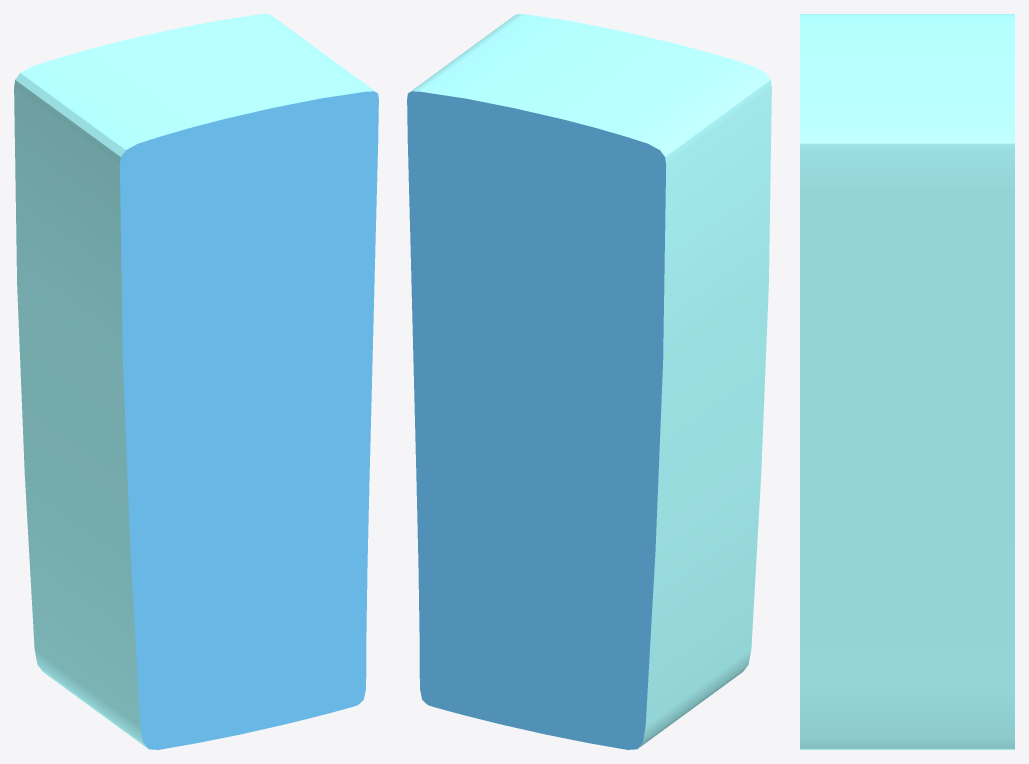
The picture shows the model from 3 angles, left to right: view 1: azimuth 30°, elevation 25°; view 2: azimuth 150°, elevation 25°; view 3: azimuth 270°, elevation 25°; orthographic projection.
Parts seen in each view (by area): view 1: 1; view 2: 1; view 3: 1.
Boxes of the visible parts, box(x1,y1,x2,y2) form: 1: box(14, 14, 378, 749); 1: box(407, 14, 771, 749); 1: box(800, 14, 1014, 749).
Size of what is drawn, in the model's own units: 0.2546 by 0.5824 by 0.18.
